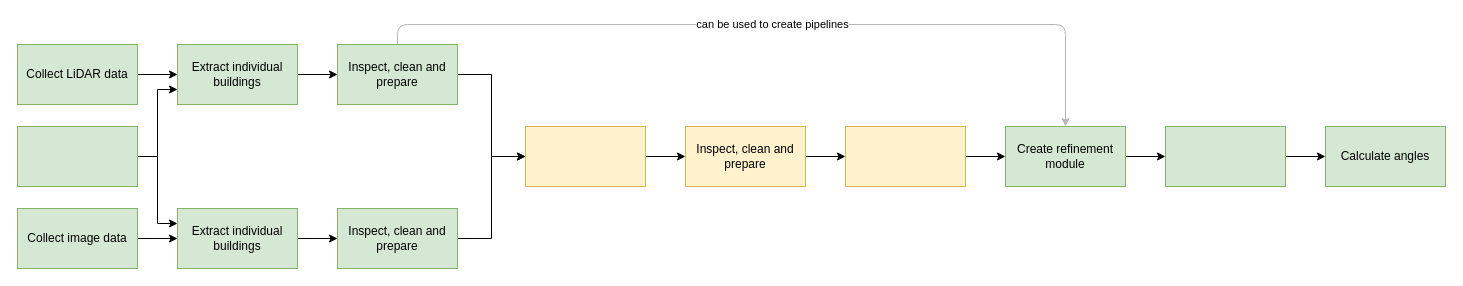
Image size: 1463x286. Some labels were removed from this diagram. Each missing label, with the centre of its shape:
Collect building footprint data: pixel 77 156
Generate "planar" building shapes: pixel 1225 156
Match pairs: pixel 585 156
Train pointcloud deformation model: pixel 905 156
